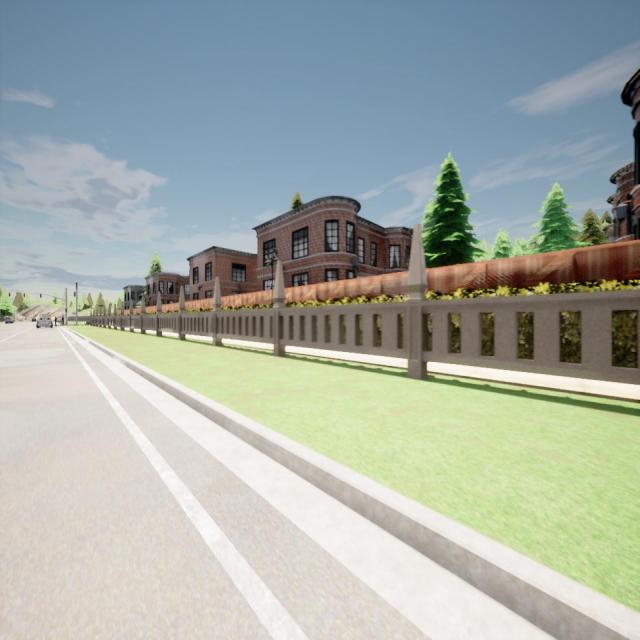Pedestrian: (61, 313, 65, 326), (54, 316, 58, 327)
Vehicle: (36, 316, 53, 328), (4, 316, 14, 324), (31, 317, 36, 323)
traffic_light: (74, 292, 76, 297), (23, 293, 25, 297), (40, 294, 42, 298), (65, 308, 67, 312), (9, 292, 10, 297)
